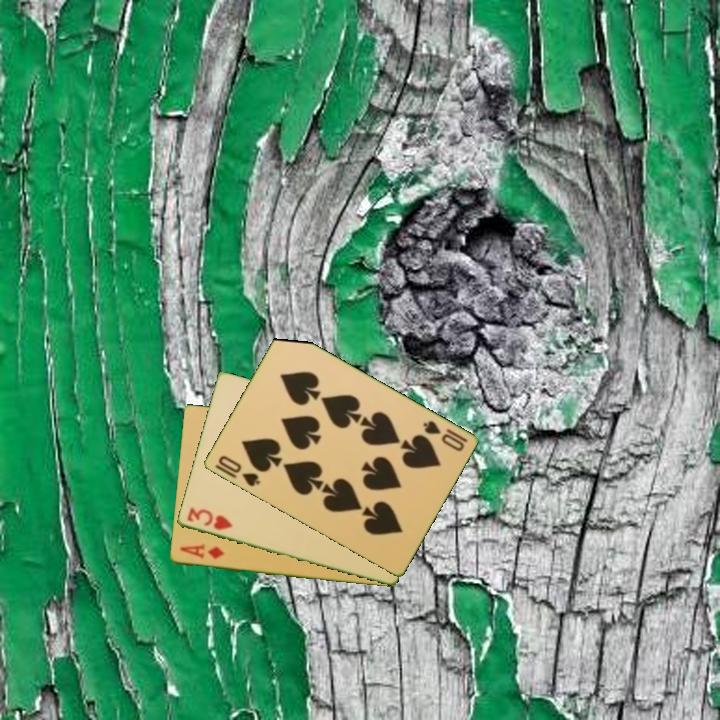10s: (419, 417, 470, 455), (214, 452, 263, 489)
3h: (183, 504, 235, 533)
Ad: (176, 542, 227, 562)
